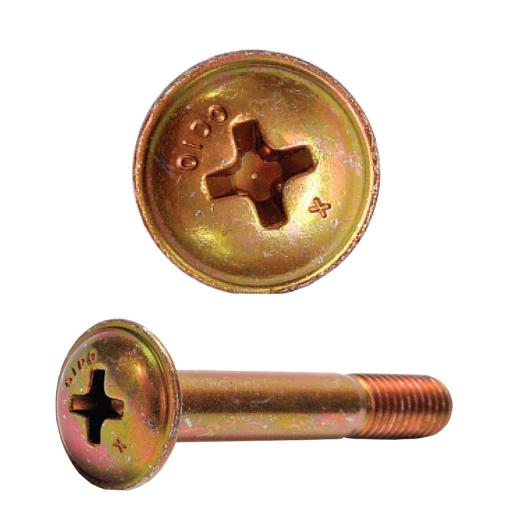Phillips: (132, 47, 375, 297), (58, 320, 174, 492)
